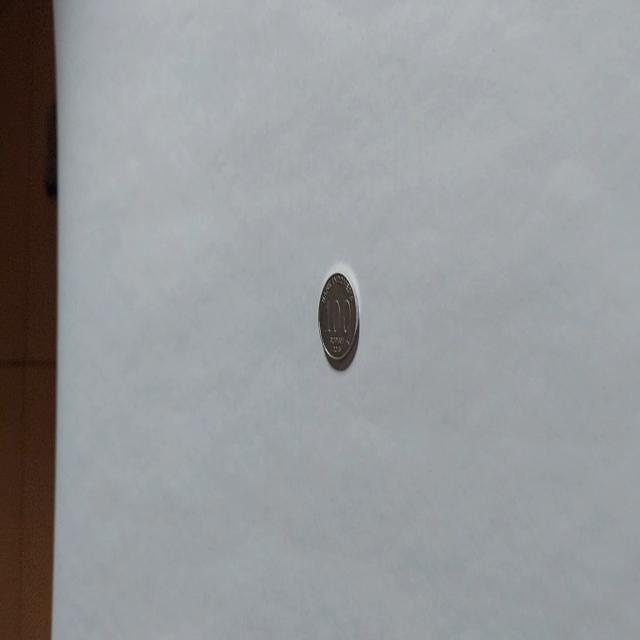seratus rupiah: (316, 270, 359, 370)
